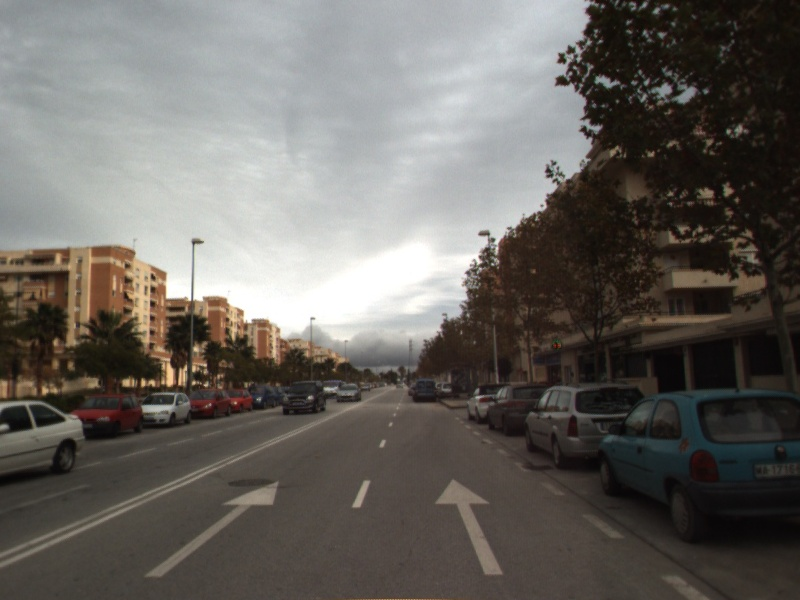STRAIGHT: (142, 479, 281, 580), (432, 476, 505, 577)
